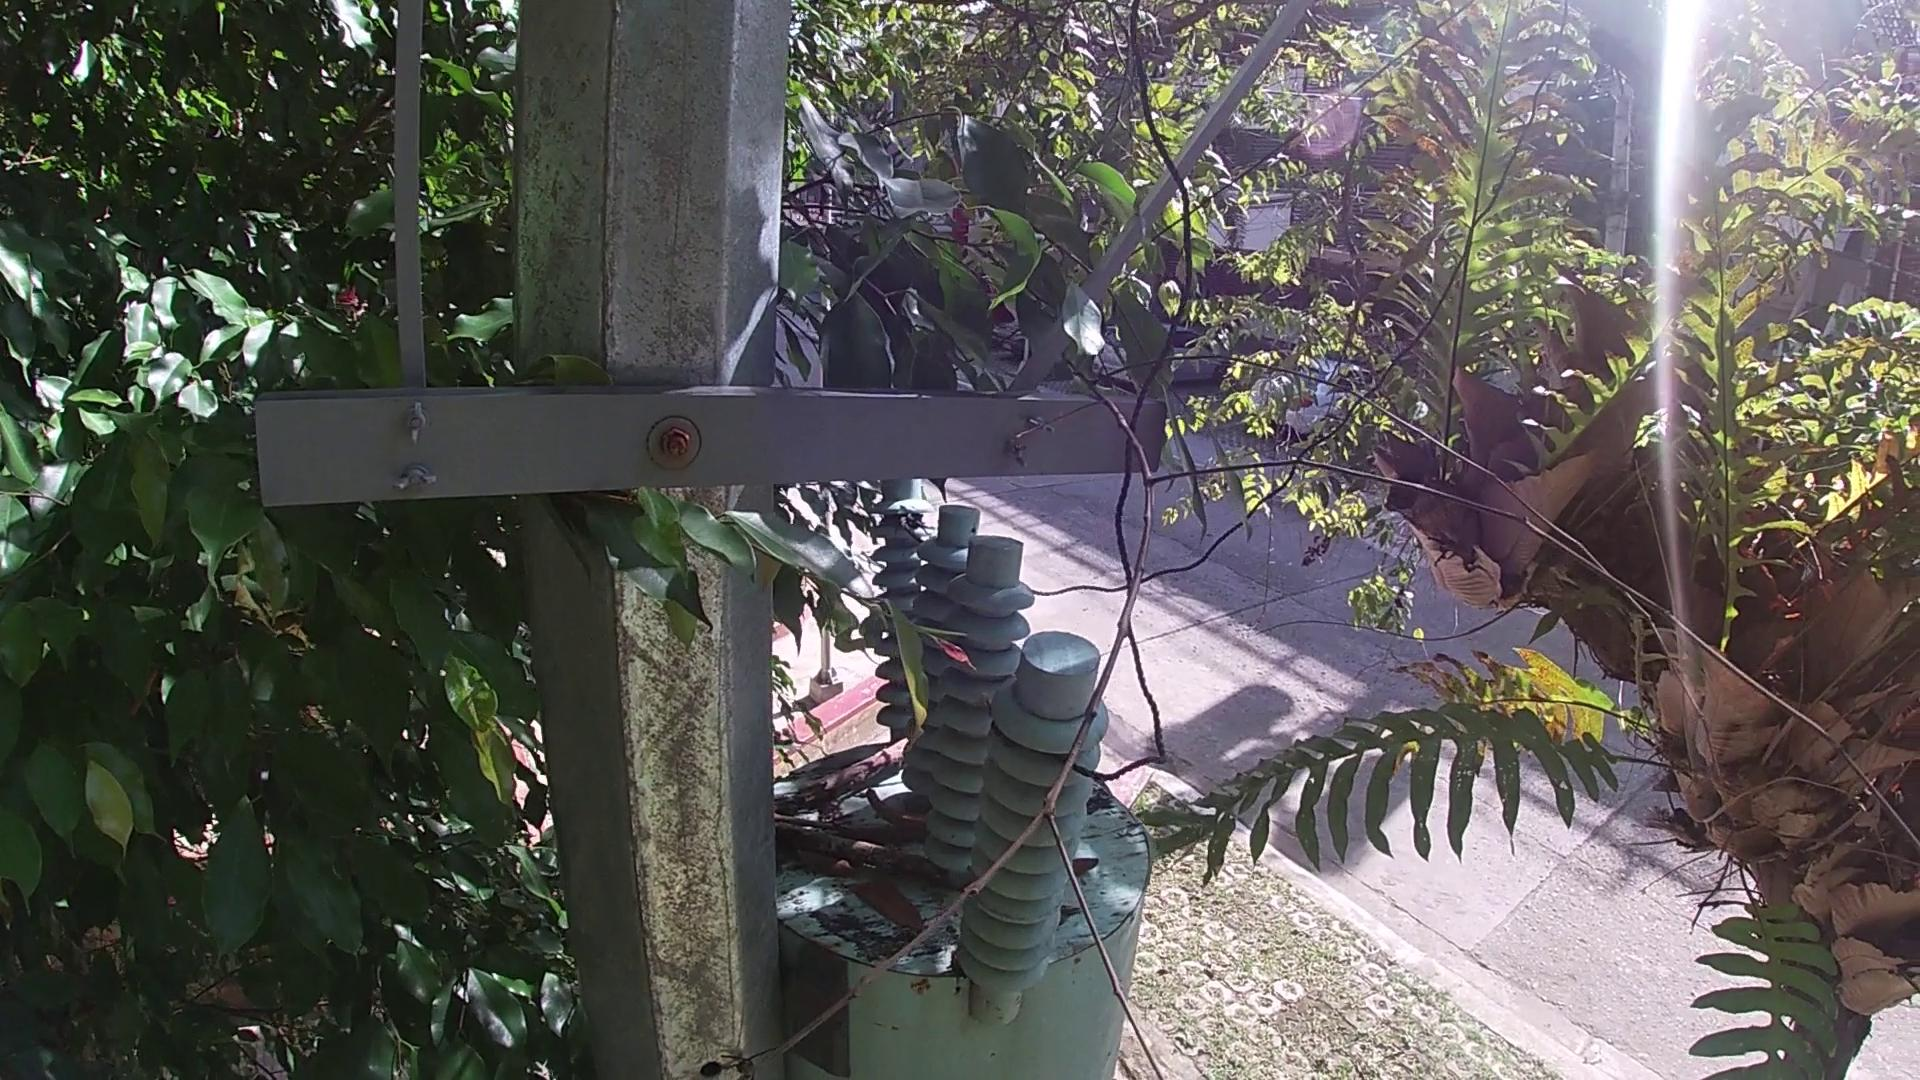leaf: (841, 877, 928, 938), (790, 845, 858, 877), (1068, 855, 1102, 877)
tree branch: (711, 332, 1920, 1077), (777, 822, 975, 887), (803, 732, 916, 814)
